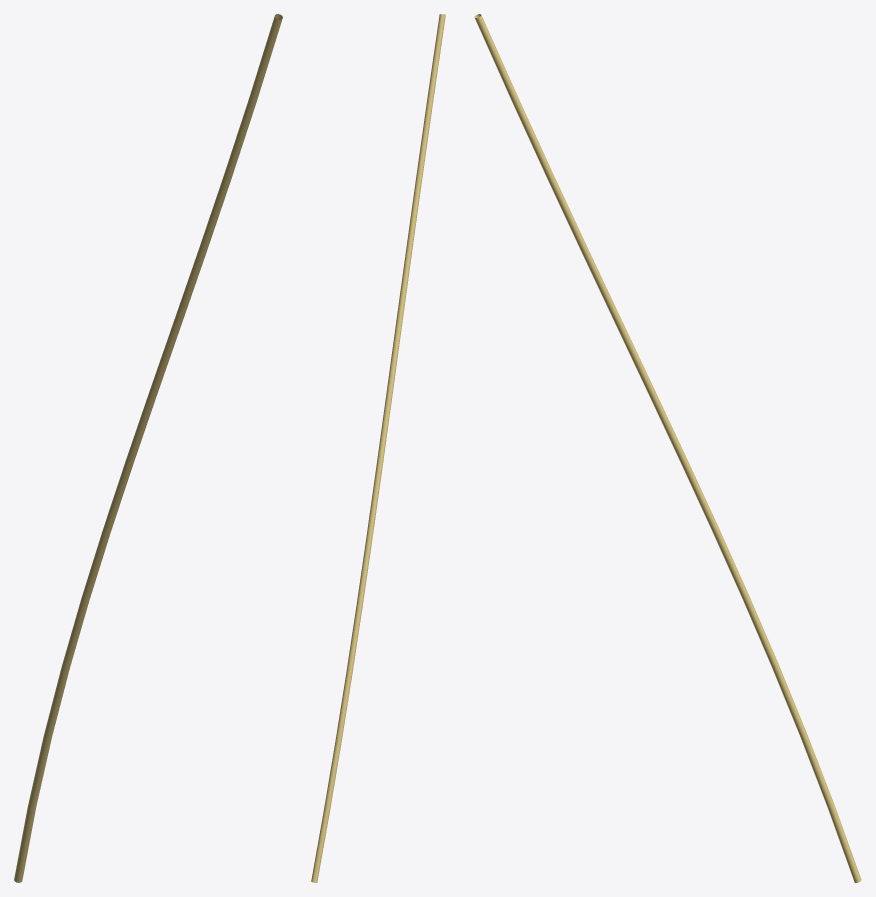
3 views of the same model, side by side, from view 1: azimuth 30°, elevation 25°; view 2: azimuth 150°, elevation 25°; view 3: azimuth 270°, elevation 25° (orthographic). The views are drawn at different scales.
Parts seen in each view (by area): view 1: ZA_cd10086c924722e2; view 2: ZA_cd10086c924722e2; view 3: ZA_cd10086c924722e2.
Part boxes in pixels (x1=…): ZA_cd10086c924722e2: x1=14, y1=14, x2=282, y2=882; ZA_cd10086c924722e2: x1=311, y1=14, x2=445, y2=882; ZA_cd10086c924722e2: x1=474, y1=14, x2=861, y2=882.
Size of the model in its own units: 0.00695 by 0.1303 by 0.0516.
